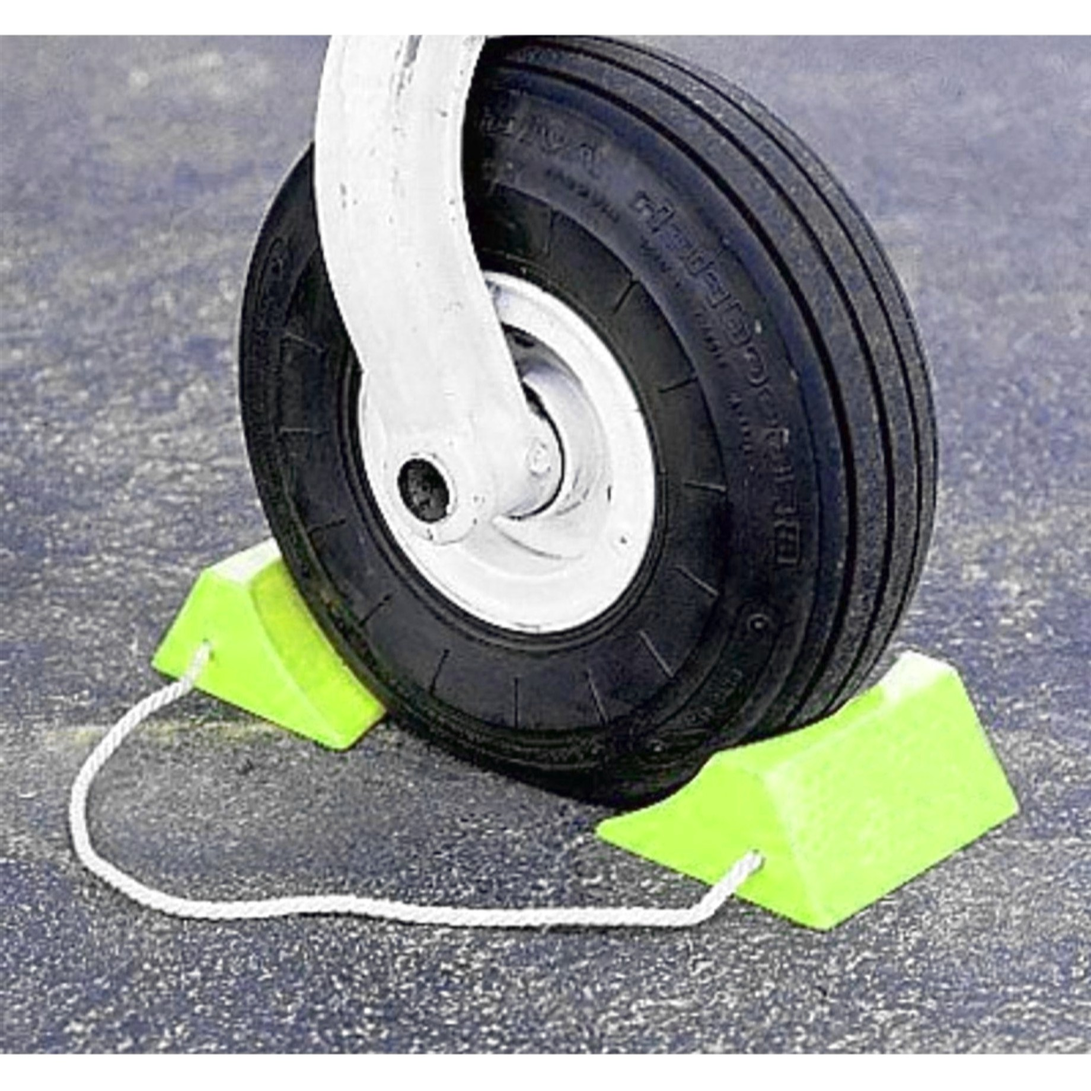chock: (596, 653, 1022, 932), (145, 523, 460, 753)
wheel: (230, 37, 940, 817)
